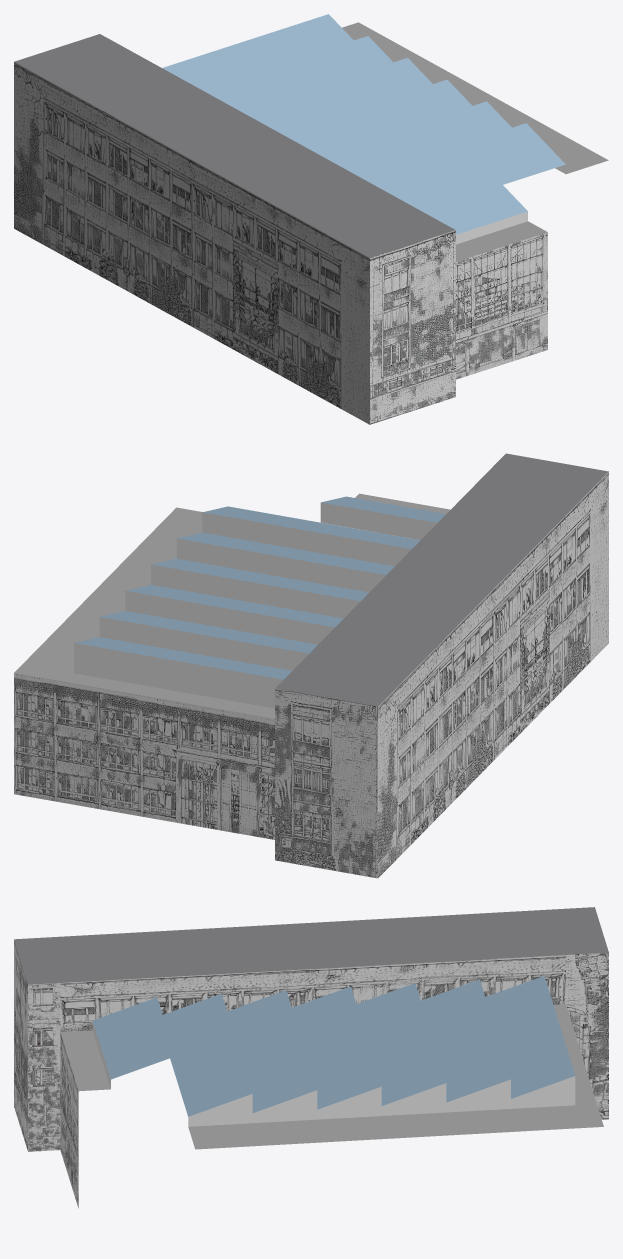
Rendered from Kutzbach-Bau.gltf.
3 views of the same model, one above another, from view 1: azimuth 30°, elevation 25°; view 2: azimuth 150°, elevation 25°; view 3: azimuth 270°, elevation 25° (orthographic). The views are drawn at different scales.
Parts seen in each view (by area): view 1: Dach.1; view 2: Dach.1; view 3: Dach.1.
Part boxes in pixels (box(x1,y1,x2,y2)): Dach.1: box(14, 14, 608, 424); Dach.1: box(14, 453, 608, 878); Dach.1: box(14, 907, 608, 1208).
Size of the model in its own units: 42.14 by 17 by 54.84.
Materials: 12 (8 with a texture image).
